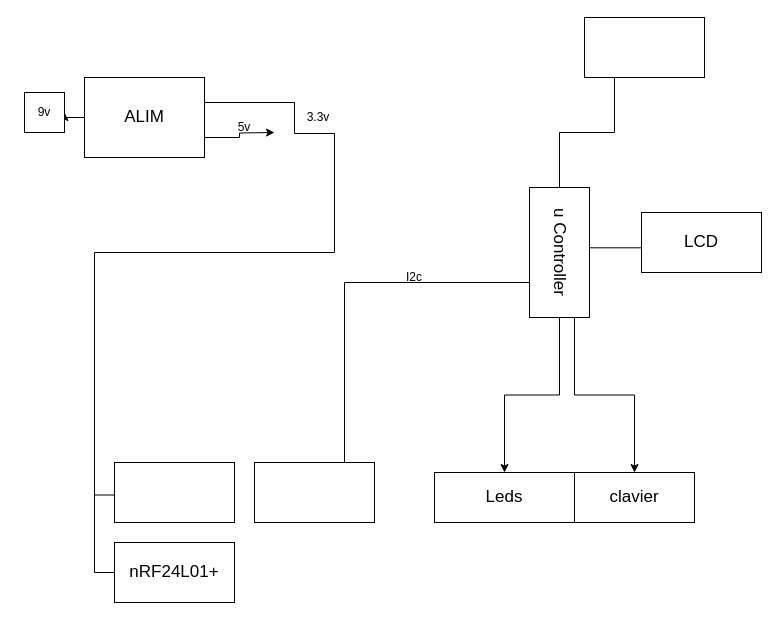
This 779x620 diagram has some shape labels left out. The shapes that lost their labels are listed below. From the top down, each one's centre as x and y in pixels, then its label:
At point (644, 47): "Horloge RTC DS3231".
At point (174, 492): "RFID".
At point (314, 492): "EPROM".
